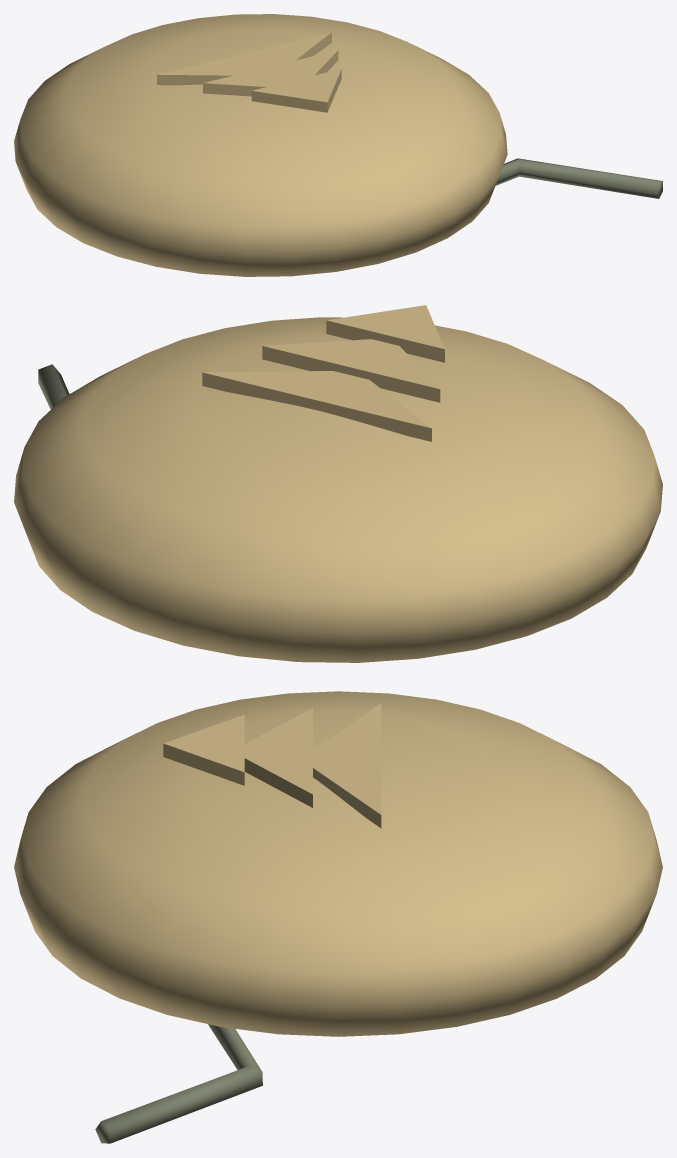
File: ss_coat_button.glb
3 views of the same model, one above another, from view 1: azimuth 30°, elevation 25°; view 2: azimuth 150°, elevation 25°; view 3: azimuth 270°, elevation 25° (orthographic). The views are drawn at different scales.
Visible parts, largest first — view 1: ss_coat_button; view 2: ss_coat_button; view 3: ss_coat_button.
Part boxes in pixels (x1,y1,x2,y2): ss_coat_button: (14,14,662,276); ss_coat_button: (14,305,662,662); ss_coat_button: (14,691,662,1143).
Bounding box in the file's own units: 0.0376 × 0.0105 × 0.0304.
